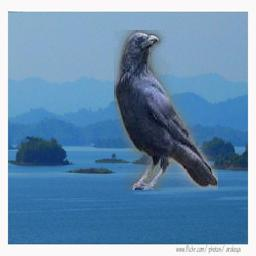Crow: (114, 30, 218, 190)
